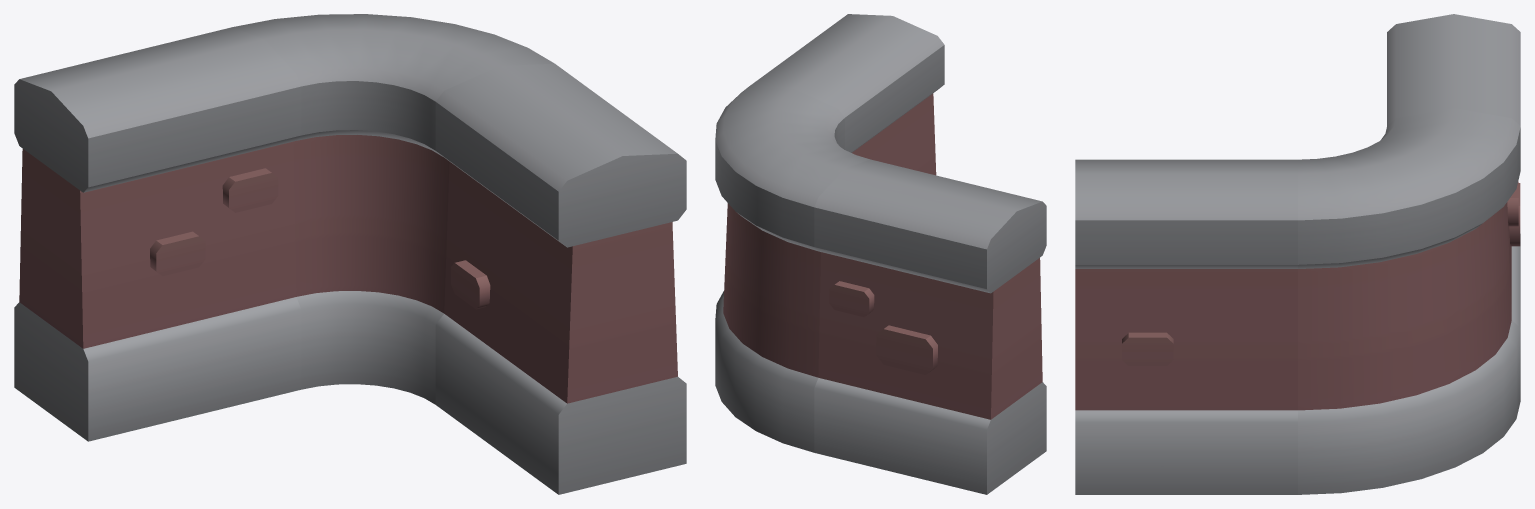
The model's file is brick-wall-curve-small.glb.
3 views of the same model, side by side, from view 1: azimuth 30°, elevation 25°; view 2: azimuth 150°, elevation 25°; view 3: azimuth 270°, elevation 25° (orthographic). The views are drawn at different scales.
Visible parts, largest first — view 1: brick-wall-curve-small; view 2: brick-wall-curve-small; view 3: brick-wall-curve-small.
Boxes of the visible parts, box(x1,y1,x2,y2) form: brick-wall-curve-small: box(14, 14, 686, 494); brick-wall-curve-small: box(715, 14, 1046, 494); brick-wall-curve-small: box(1075, 14, 1520, 494).
Bounding box in the file's own units: 2.4 × 1.74 × 2.4.
1 material, 1 textured.
